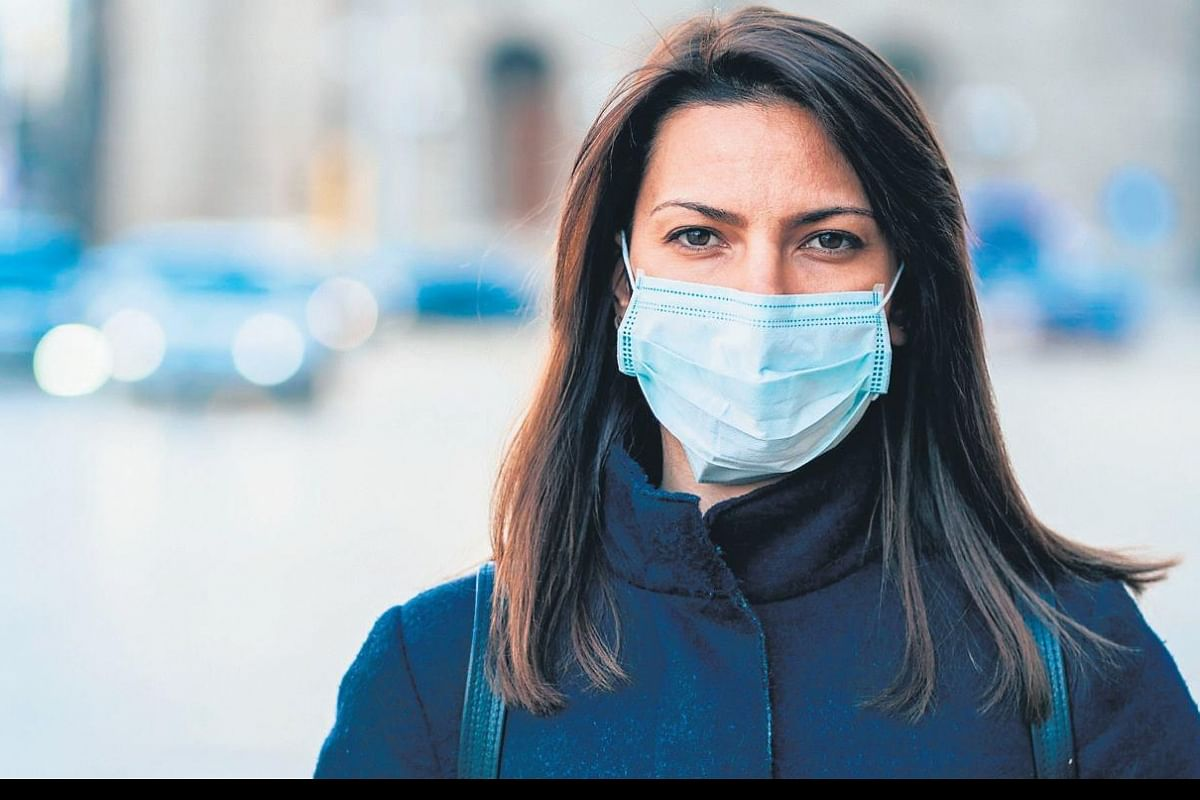Mask: (610, 242, 909, 482)
